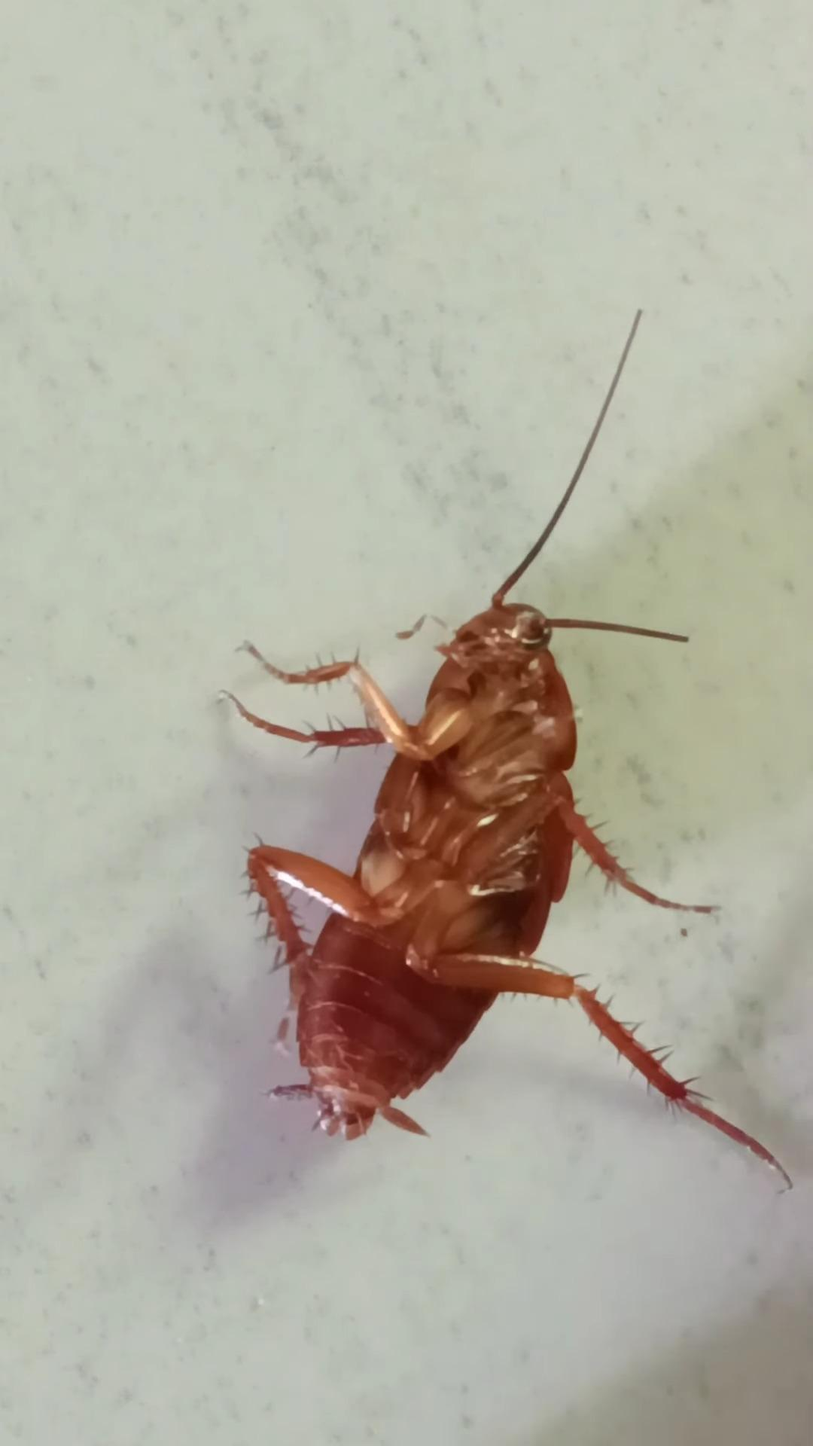cockroach: (5, 238, 813, 1157)
